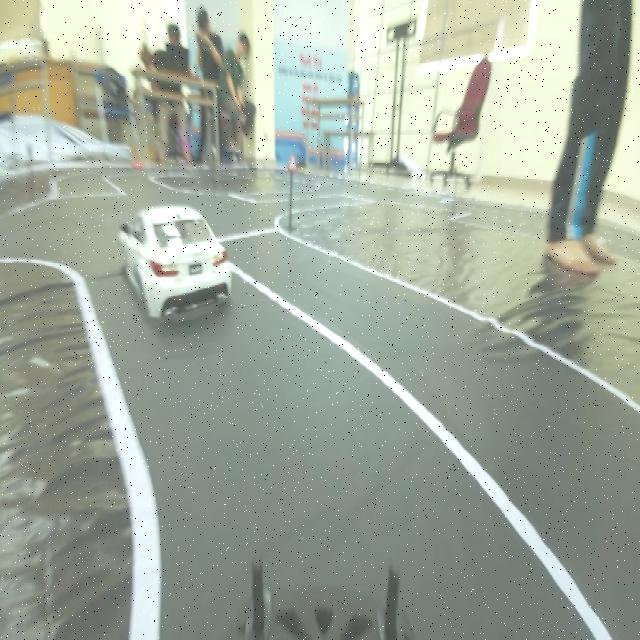car: (113, 210, 243, 324)
